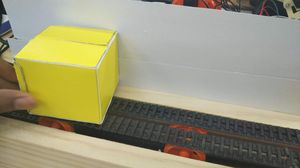box4: (11, 24, 121, 124)
